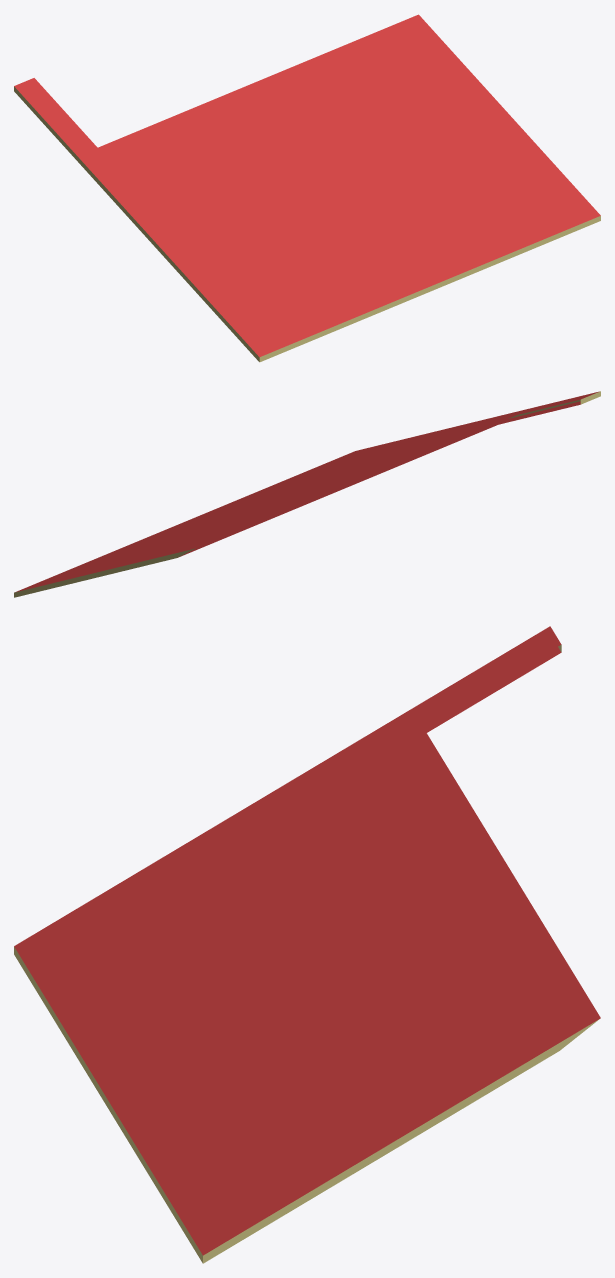
3 views of the same model, one above another, from view 1: azimuth 30°, elevation 25°; view 2: azimuth 210°, elevation 25°; view 3: azimuth 270°, elevation 25° (orthographic). The views are drawn at different scales.
Bounding box in the file's own units: 9.68 × 6.52 × 3.31.
